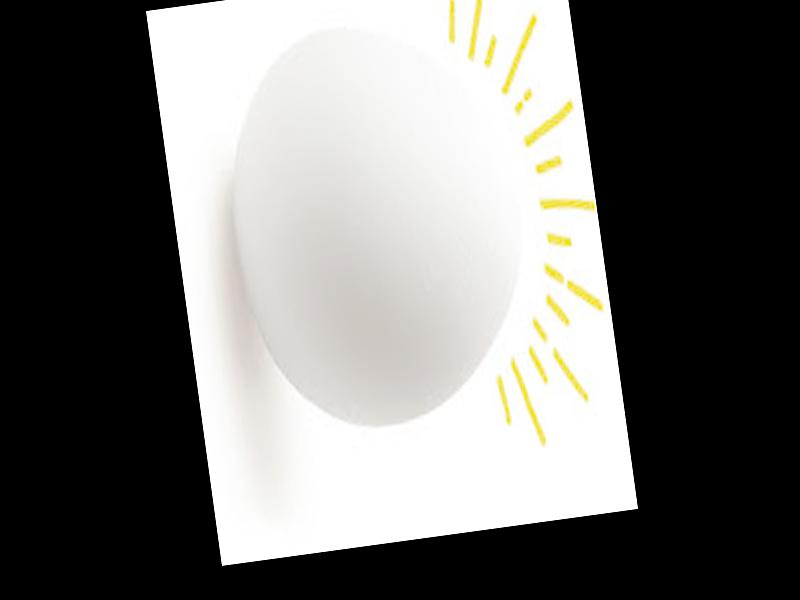Eggs: (209, 3, 543, 442)
